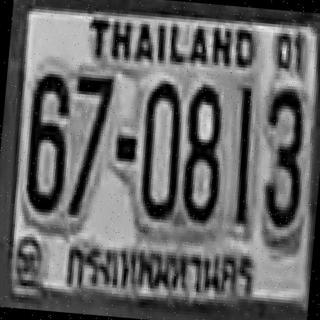N00: (135, 78, 185, 219)
N01: (229, 86, 260, 225)
N03: (255, 84, 310, 243)
N06: (20, 70, 72, 212)
N07: (64, 70, 114, 217), (66, 70, 114, 194), (68, 70, 114, 168)
N08: (177, 80, 227, 221)
P04: (57, 230, 270, 314)
